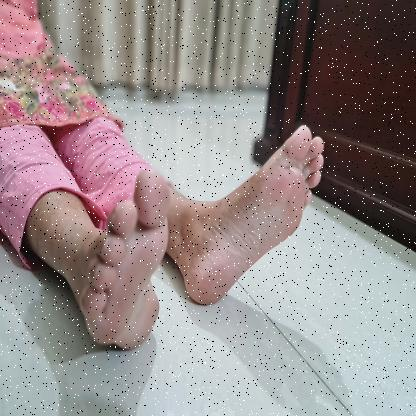leg: (170, 119, 328, 310), (26, 160, 174, 360)
